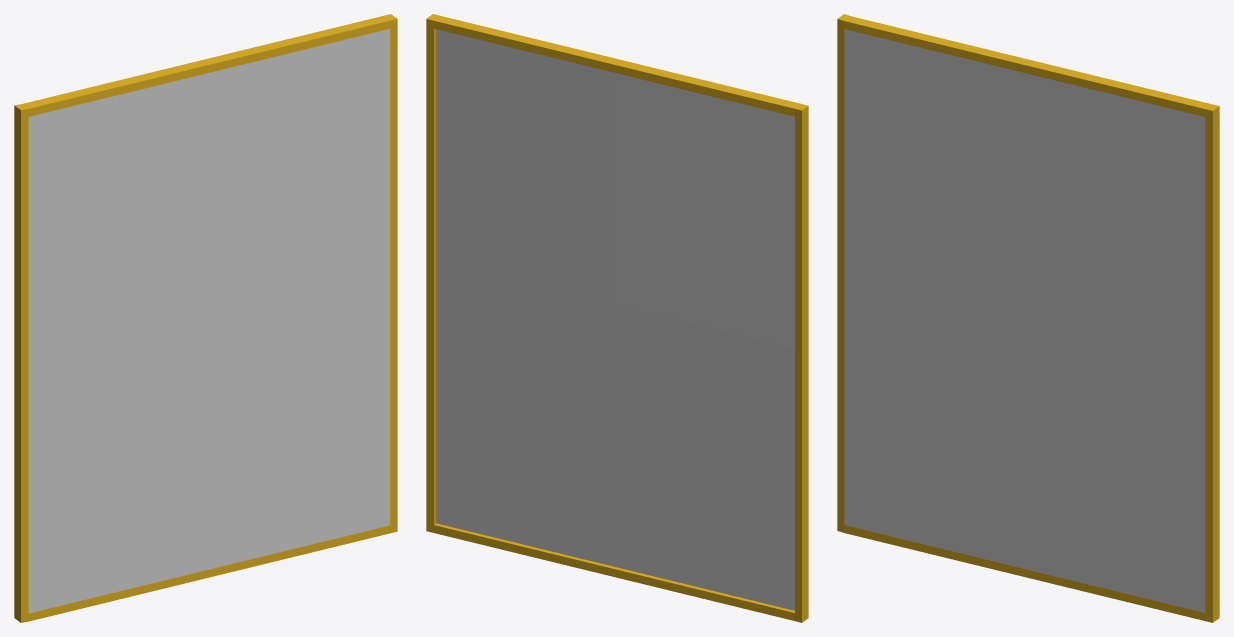
File: Painting_Simple_16x20.fbx
3 views of the same model, side by side, from view 1: azimuth 30°, elevation 25°; view 2: azimuth 150°, elevation 25°; view 3: azimuth 330°, elevation 25° (orthographic).
Parts seen in each view (by area): view 1: Painting_Simple_16x20; view 2: Painting_Simple_16x20; view 3: Painting_Simple_16x20.
Boxes of the visible parts, box(x1,y1,x2,y2) form: Painting_Simple_16x20: box(14, 14, 397, 622); Painting_Simple_16x20: box(426, 14, 808, 622); Painting_Simple_16x20: box(837, 14, 1219, 622).
Size of the model in its own units: 31.91 by 41.57 by 1.03.
